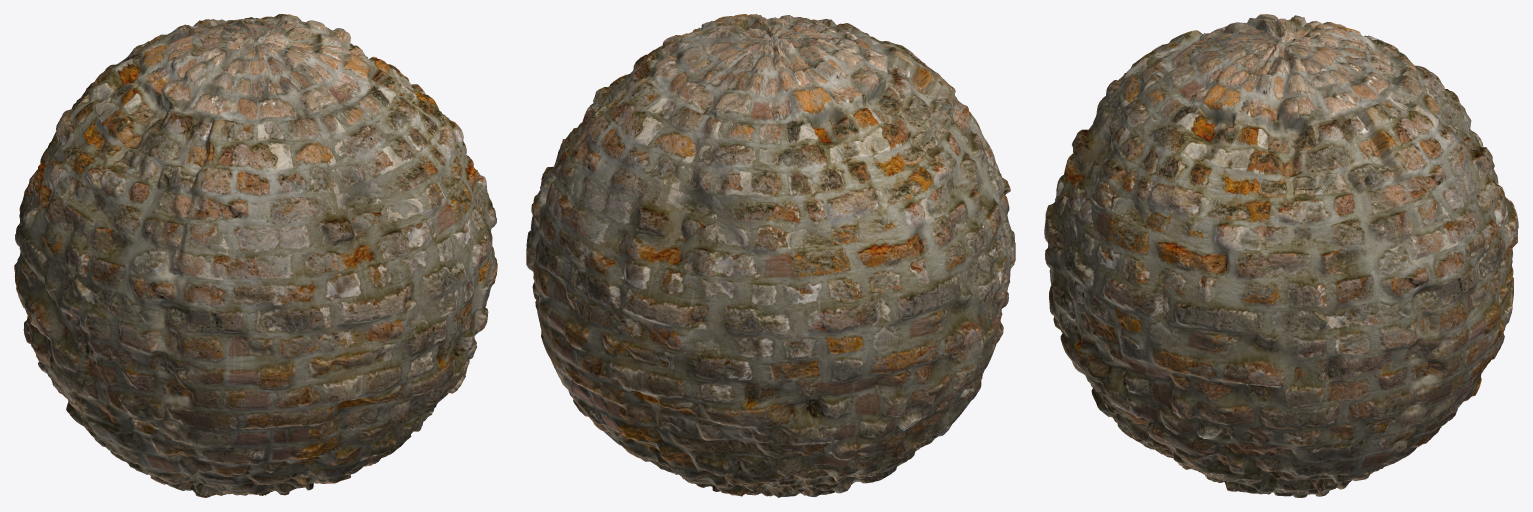
File: red_bricks_02_2k.gltf
3 views of the same model, side by side, from view 1: azimuth 30°, elevation 25°; view 2: azimuth 150°, elevation 25°; view 3: azimuth 270°, elevation 25° (orthographic). The views are drawn at different scales.
Visible parts, largest first — view 1: sphere_gltf; view 2: sphere_gltf; view 3: sphere_gltf.
Boxes of the visible parts, x1=… form: sphere_gltf: x1=14, y1=14, x2=497, y2=497; sphere_gltf: x1=526, y1=14, x2=1015, y2=497; sphere_gltf: x1=1044, y1=14, x2=1518, y2=497.
Size of the model in its own units: 2.57 by 2.58 by 2.53.
Materials: 1 (1 with a texture image).
